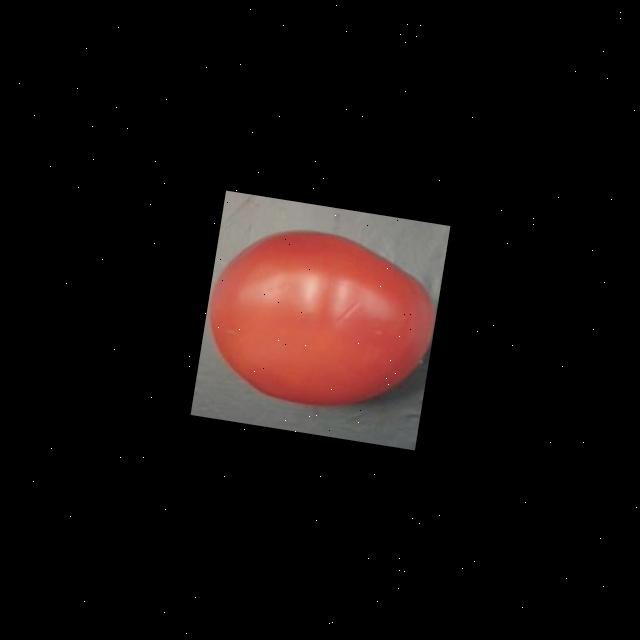tomato: (194, 212, 446, 423)
